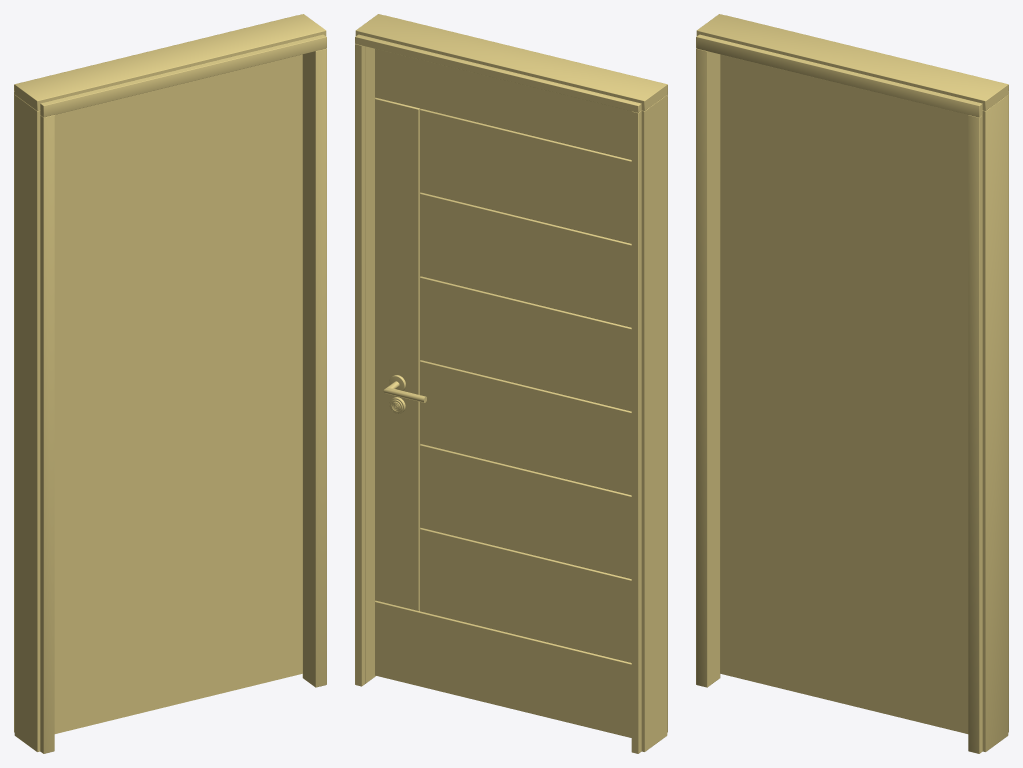
File: Door-Primary.fbx
3 views of the same model, side by side, from view 1: azimuth 30°, elevation 25°; view 2: azimuth 150°, elevation 25°; view 3: azimuth 330°, elevation 25° (orthographic).
Visible parts, largest first — view 1: Door-Main-Door; view 2: Door-Main-Door; view 3: Door-Main-Door.
Boxes of the visible parts, <box> form: Door-Main-Door: <box>14,14,326,753</box>; Door-Main-Door: <box>355,14,667,753</box>; Door-Main-Door: <box>696,14,1008,753</box>.
Size of the model in its own units: 97.5 by 210 by 17.66.
